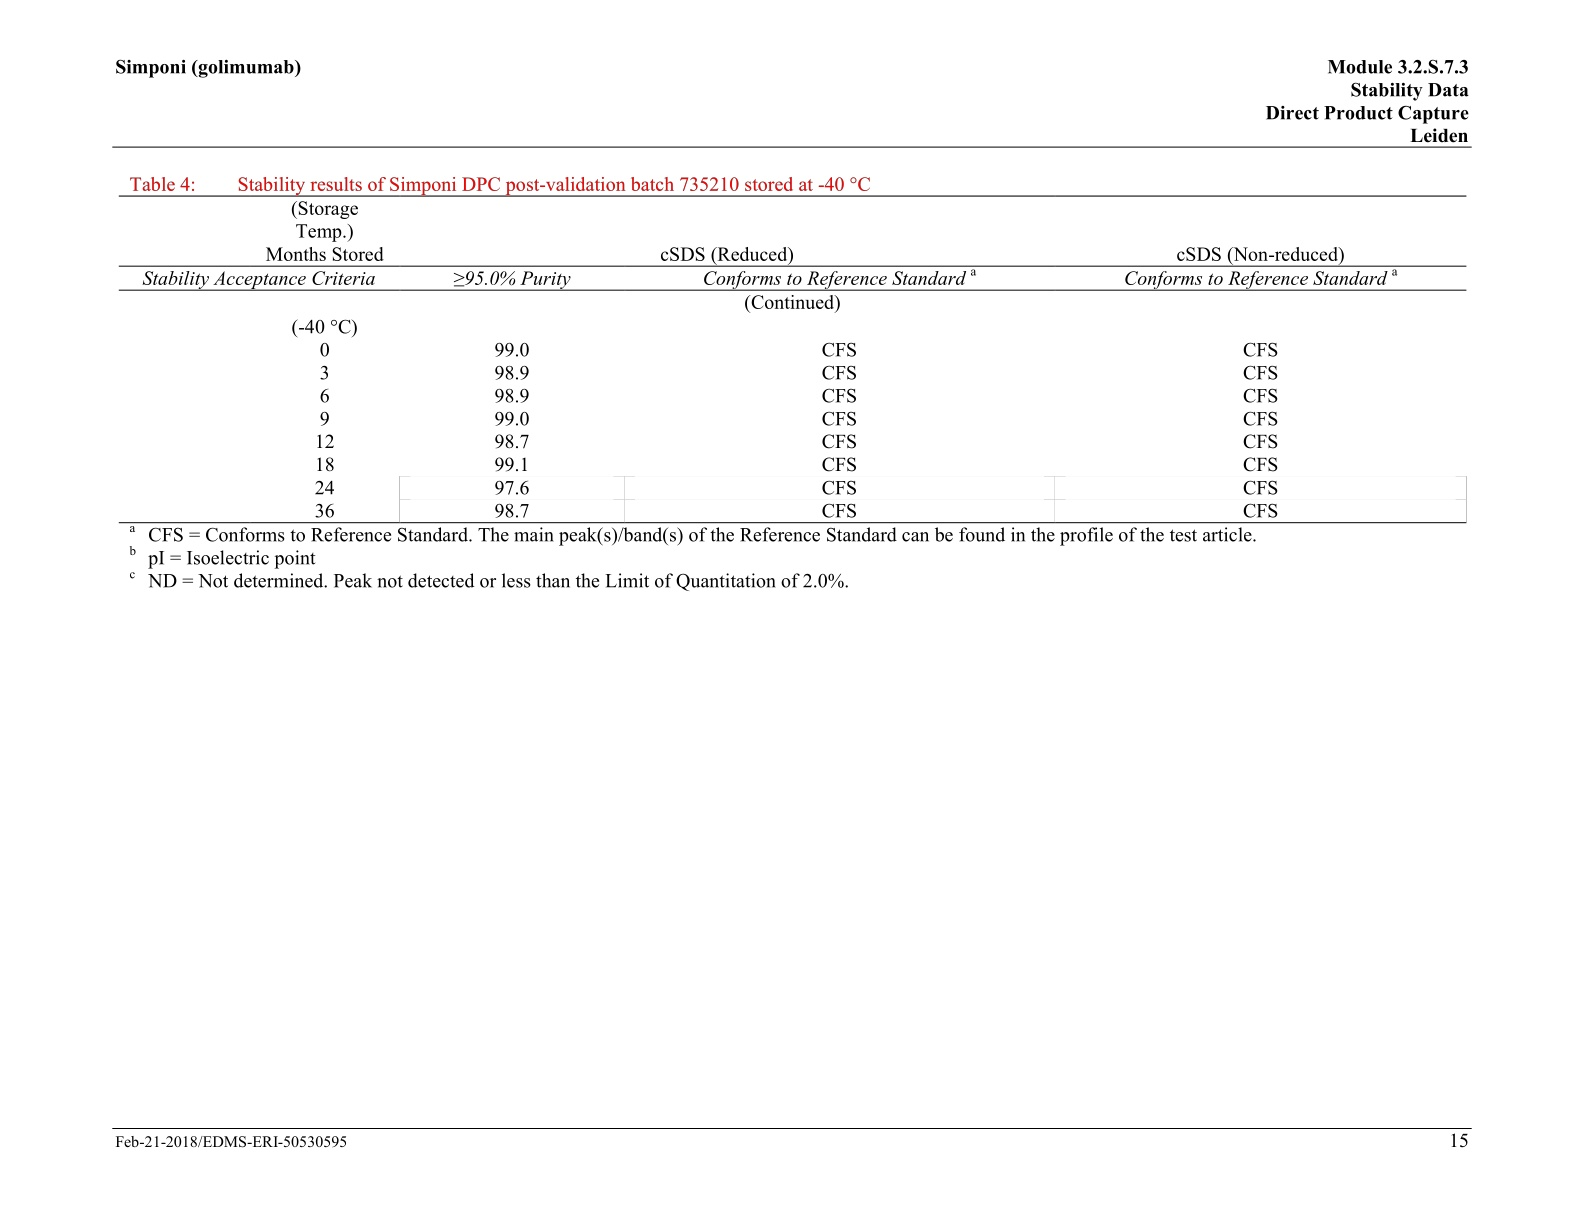partial_lined: (118, 194, 1468, 525)
